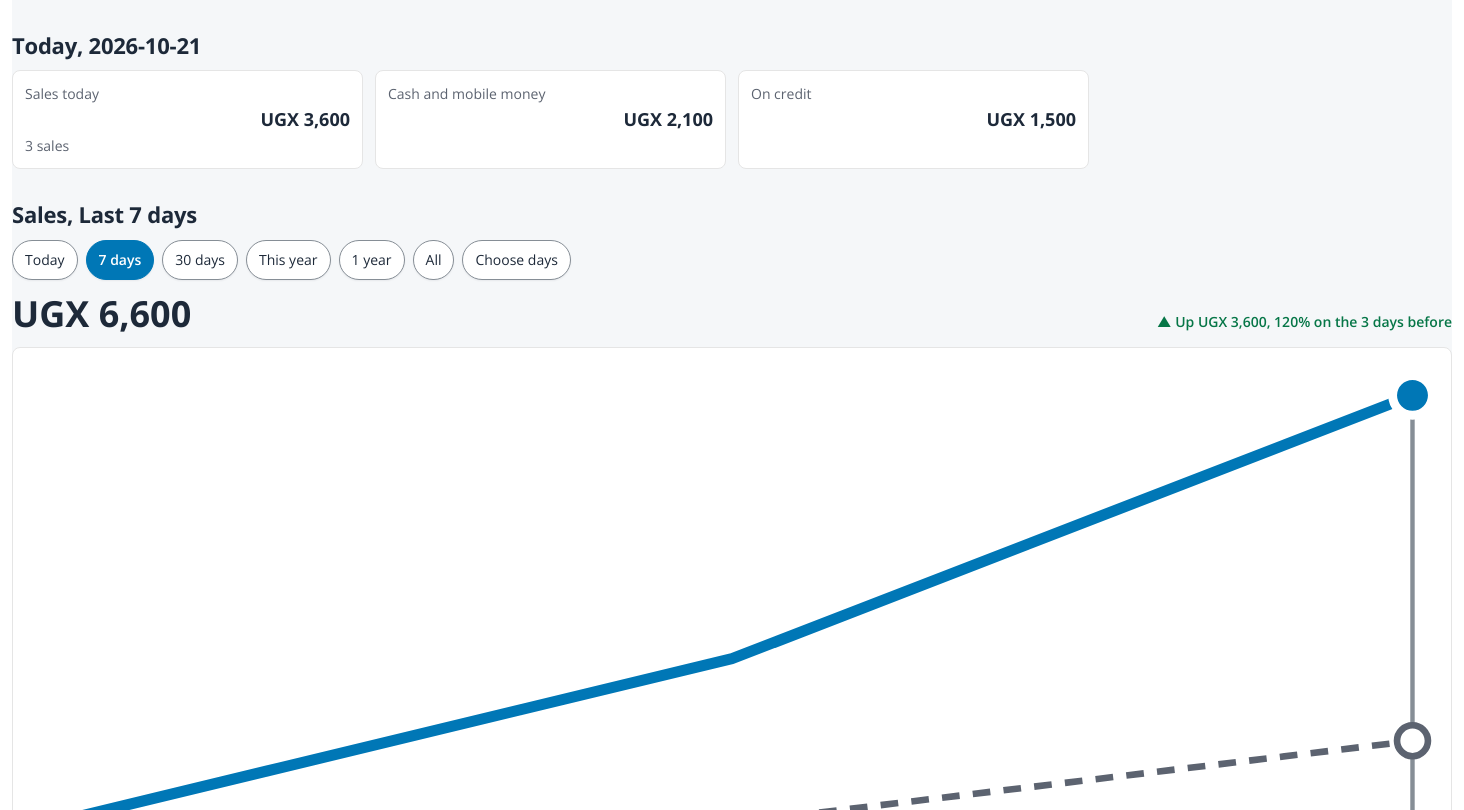
the owner dashboard range › keeps the figures on screen named for their own days while the next range loads
Expected: the heading "Sales, Last 7 days" is shown, [12,199,197,229]
Click the button "Today". click: (45, 260)
box: [12,240,78,280]
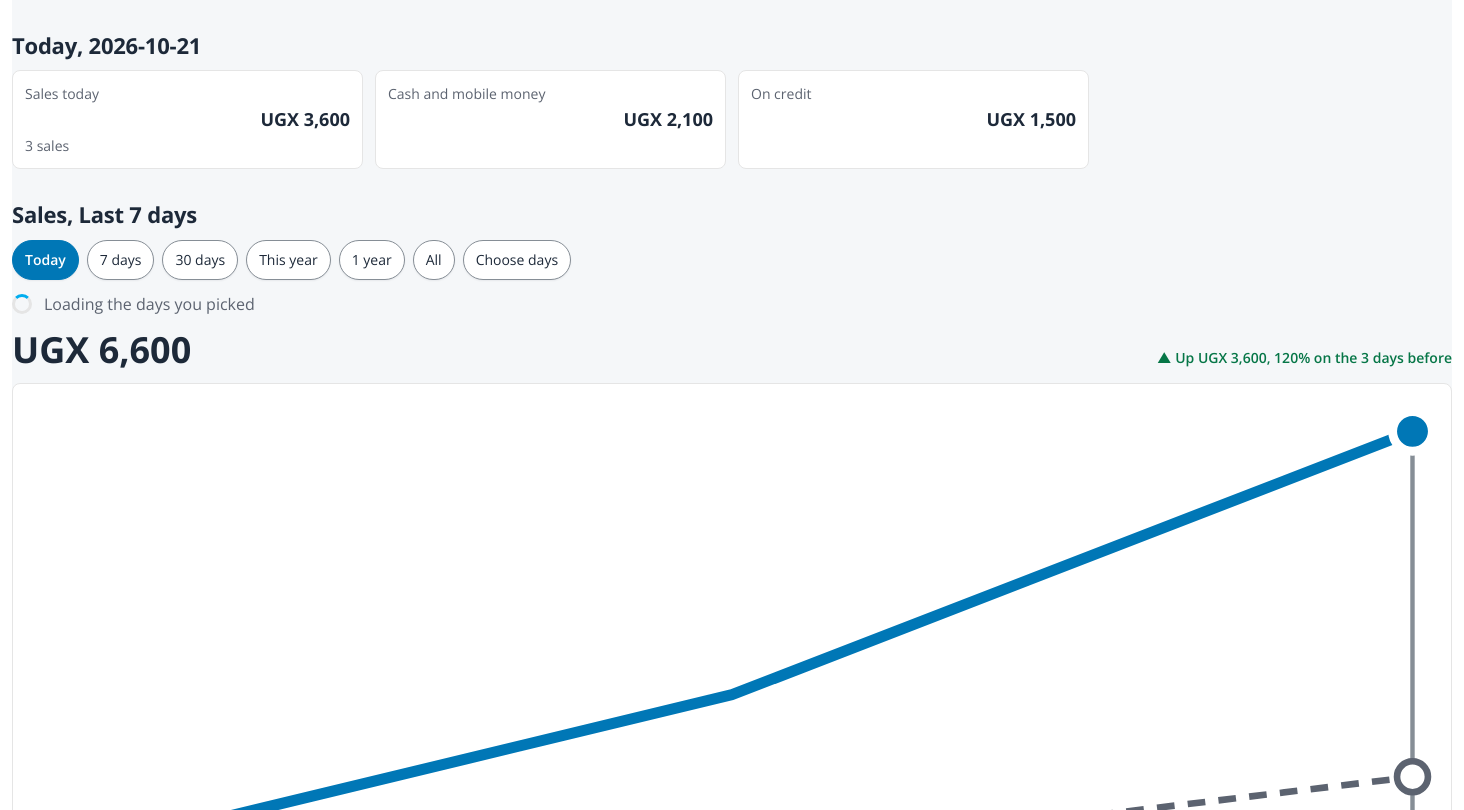
Expected: the heading "Sales, Last 7 days" is shown, [12,199,197,229]
Now the text "Loading the days you picked" is shown, box [44,293,255,315]
